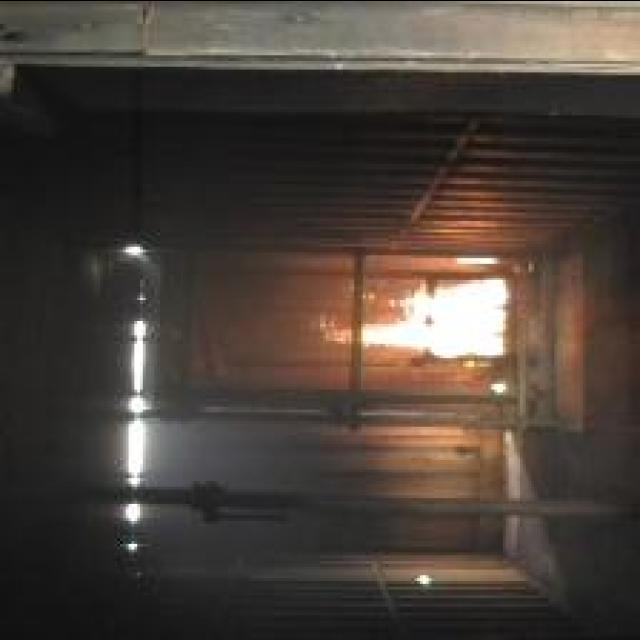Fire: (310, 278, 507, 358)
